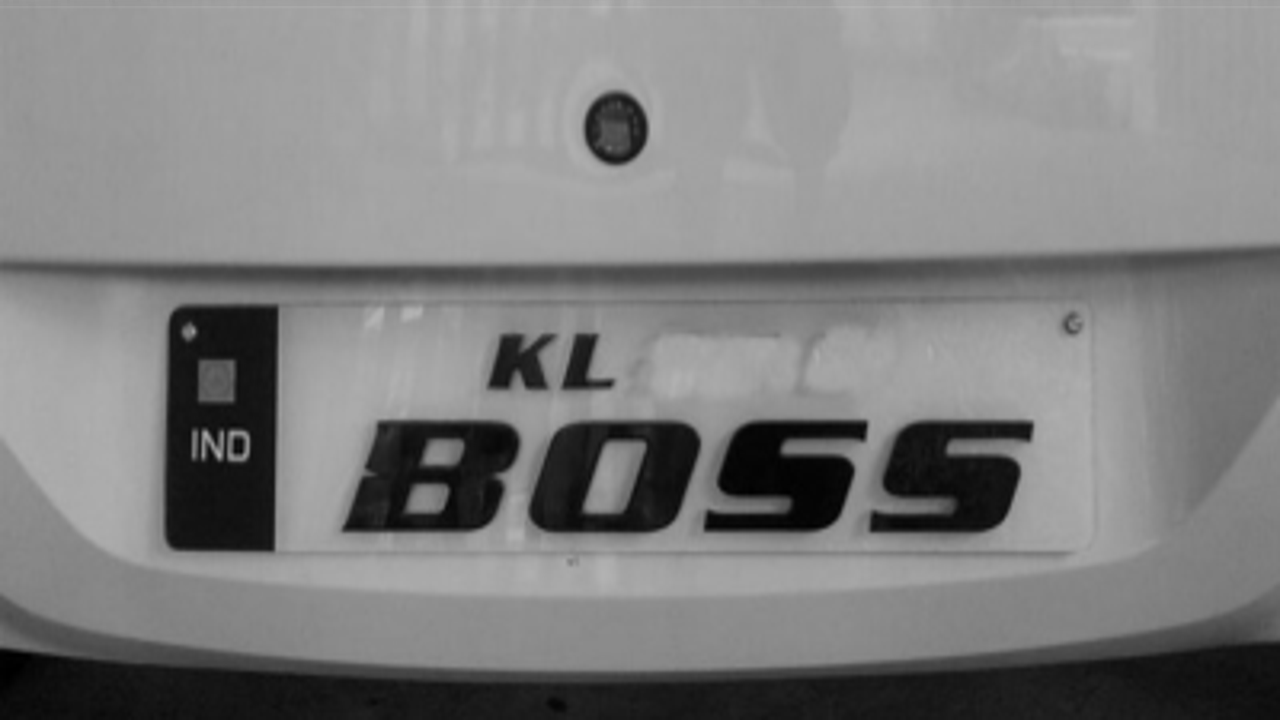license: (155, 288, 1113, 574)
